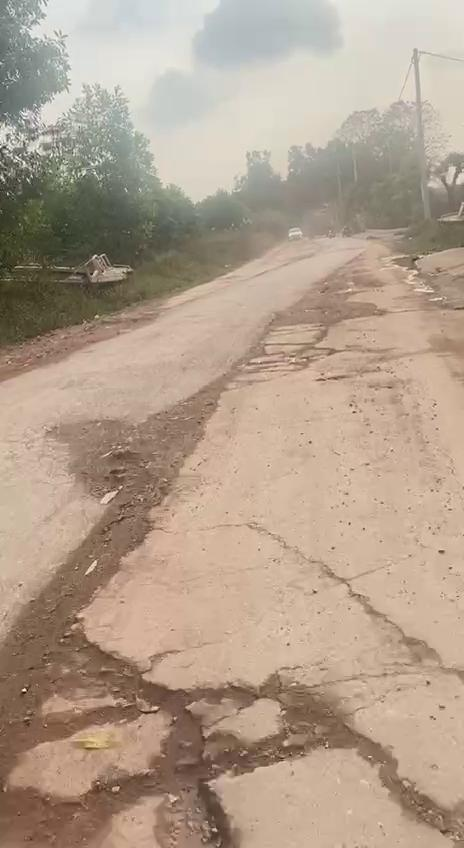pothole: (0, 647, 464, 848), (48, 436, 200, 623)
